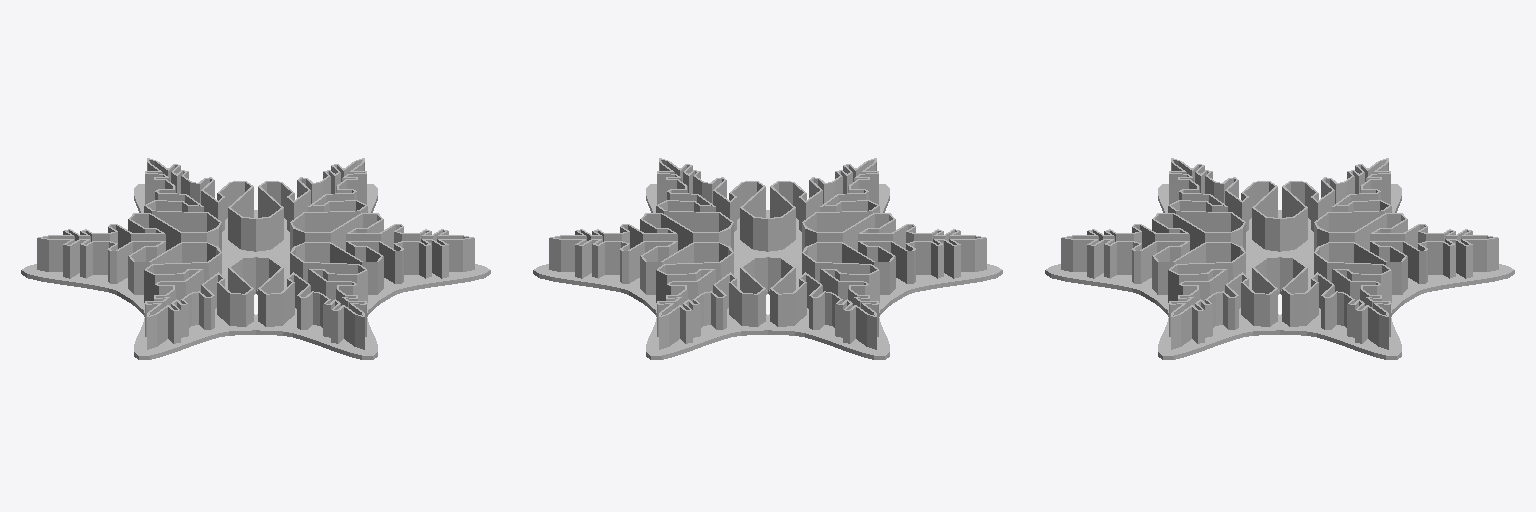
File: snow.obj
3 renders of one model, left to right at view 1: azimuth 30°, elevation 25°; view 2: azimuth 150°, elevation 25°; view 3: azimuth 270°, elevation 25°, orthographic.
Visible parts, largest first — view 1: Snowflake_Cutter; view 2: Snowflake_Cutter; view 3: Snowflake_Cutter.
Part boxes in pixels (left/top/right/bottom): Snowflake_Cutter: left=21, top=158, right=490, bottom=359; Snowflake_Cutter: left=533, top=158, right=1002, bottom=359; Snowflake_Cutter: left=1045, top=158, right=1514, bottom=359.
Bounding box in the file's own units: 85.34 × 8.5 × 98.55.